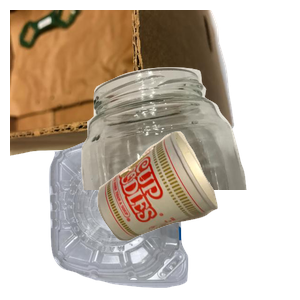cardboard: (10, 10, 237, 158)
glass: (74, 65, 300, 245)
plastic: (46, 130, 227, 300)
trash: (95, 129, 300, 300)
